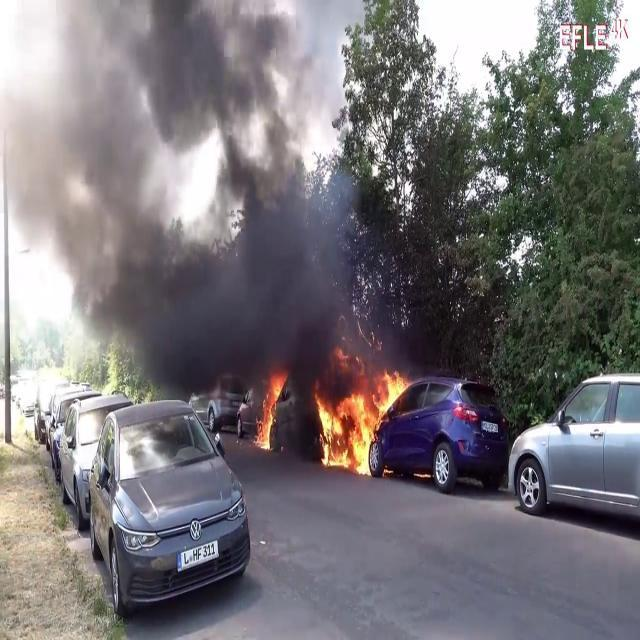Fire: (315, 362, 411, 474), (256, 370, 286, 452)
Smoke: (0, 0, 366, 382)
